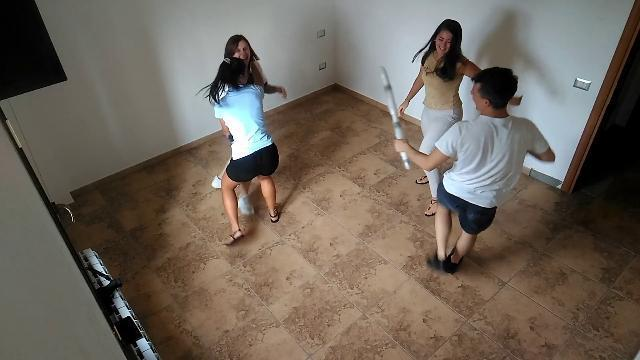violence: (374, 19, 556, 275), (201, 34, 289, 246)
